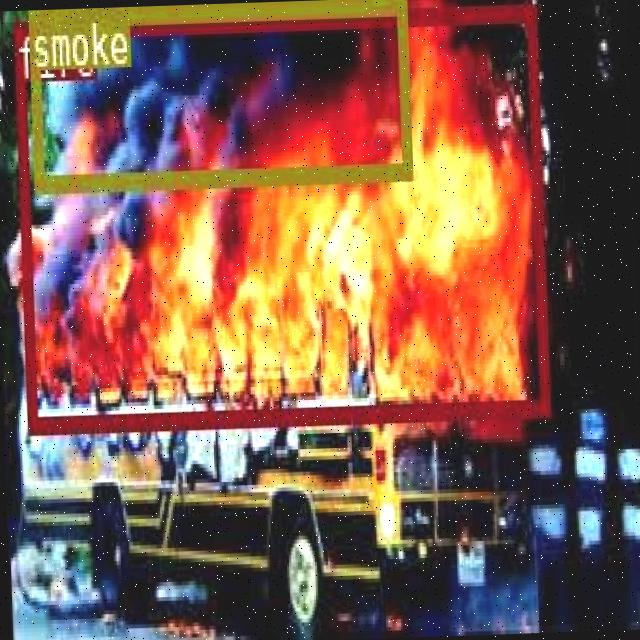fire: (12, 4, 547, 432)
smoke: (27, 0, 410, 191)
